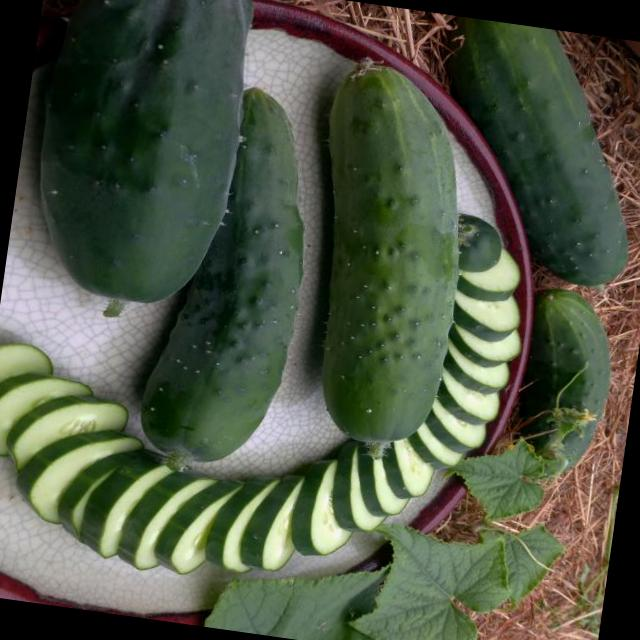Cucumber: (16, 0, 262, 313), (286, 62, 484, 450), (132, 81, 324, 465), (416, 15, 640, 288), (506, 284, 621, 484)
